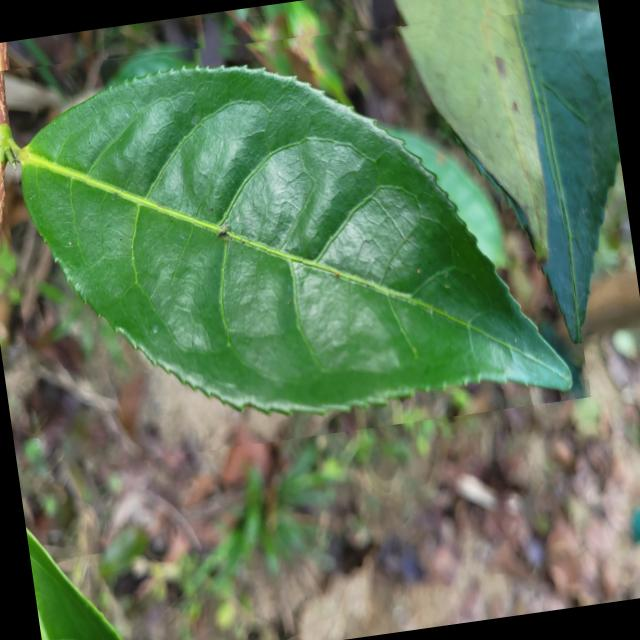Category D(7+ days, Not for Tea): (0, 0, 591, 473)
